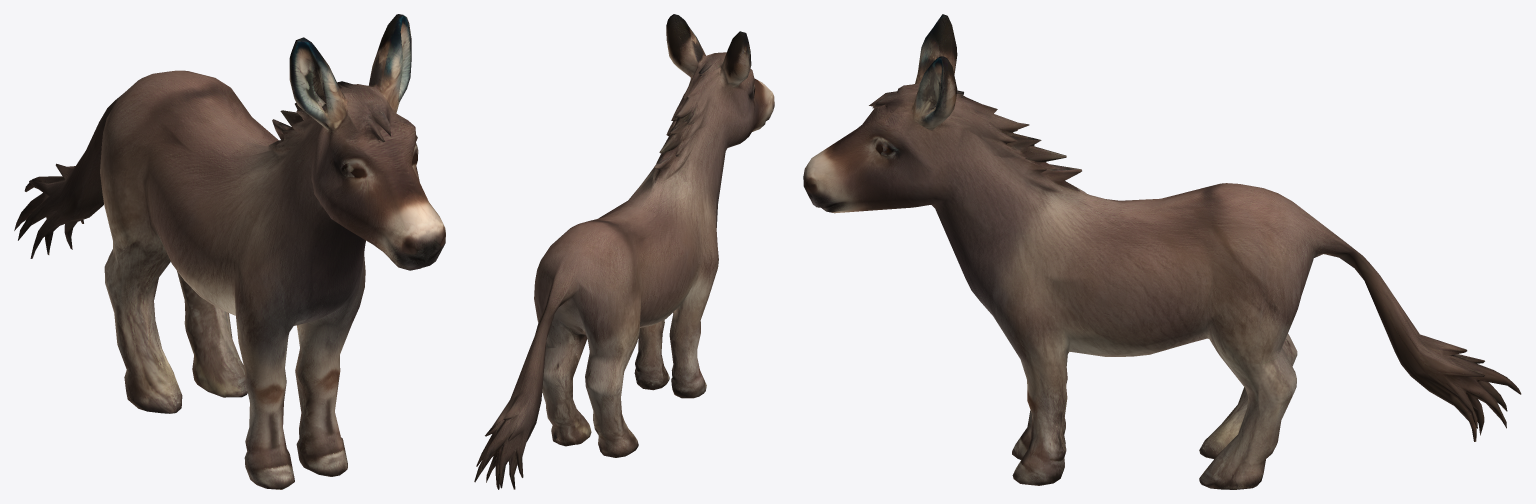
File: donkey_hazard.glb
3 views of the same model, side by side, from view 1: azimuth 30°, elevation 25°; view 2: azimuth 150°, elevation 25°; view 3: azimuth 270°, elevation 25° (orthographic). The views are drawn at different scales.
Visible parts, largest first — view 1: Mesh_0; view 2: Mesh_0; view 3: Mesh_0.
Boxes of the visible parts, x1,y1,x2,y2 form: Mesh_0: [14, 14, 445, 489]; Mesh_0: [474, 14, 774, 489]; Mesh_0: [803, 14, 1521, 489].
Size of the model in its own units: 0.2899 by 1 by 1.51.
Materials: 1 (1 with a texture image).
